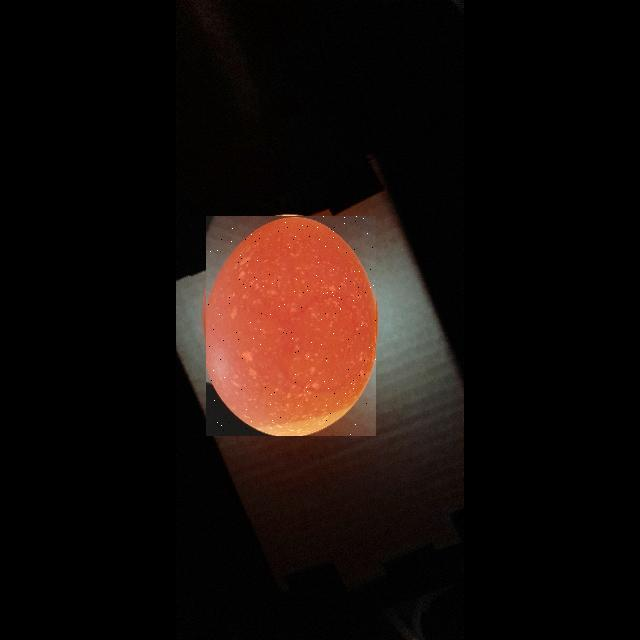Fertile: (206, 216, 376, 436)
